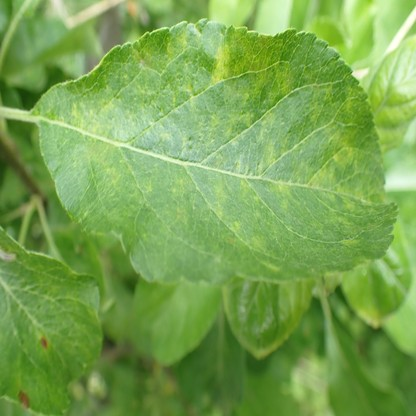frogeye_leaf_spot: (17, 391, 29, 409), (40, 337, 47, 349)
scab: (71, 39, 384, 260)
